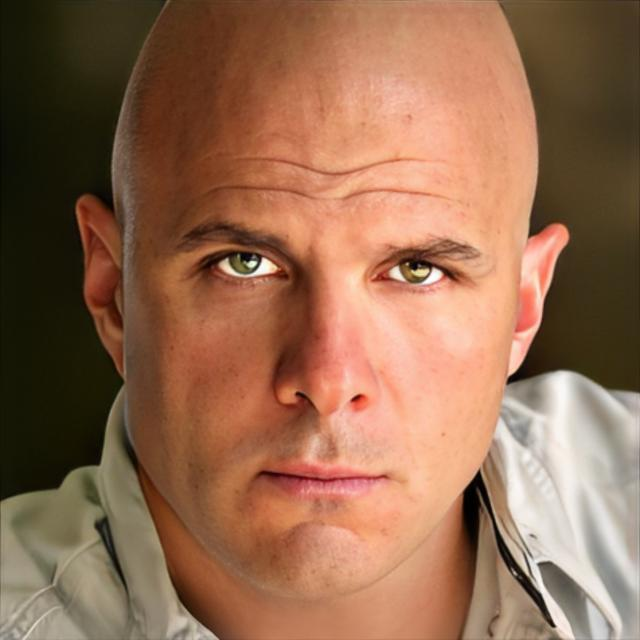anger: (123, 37, 515, 614)
